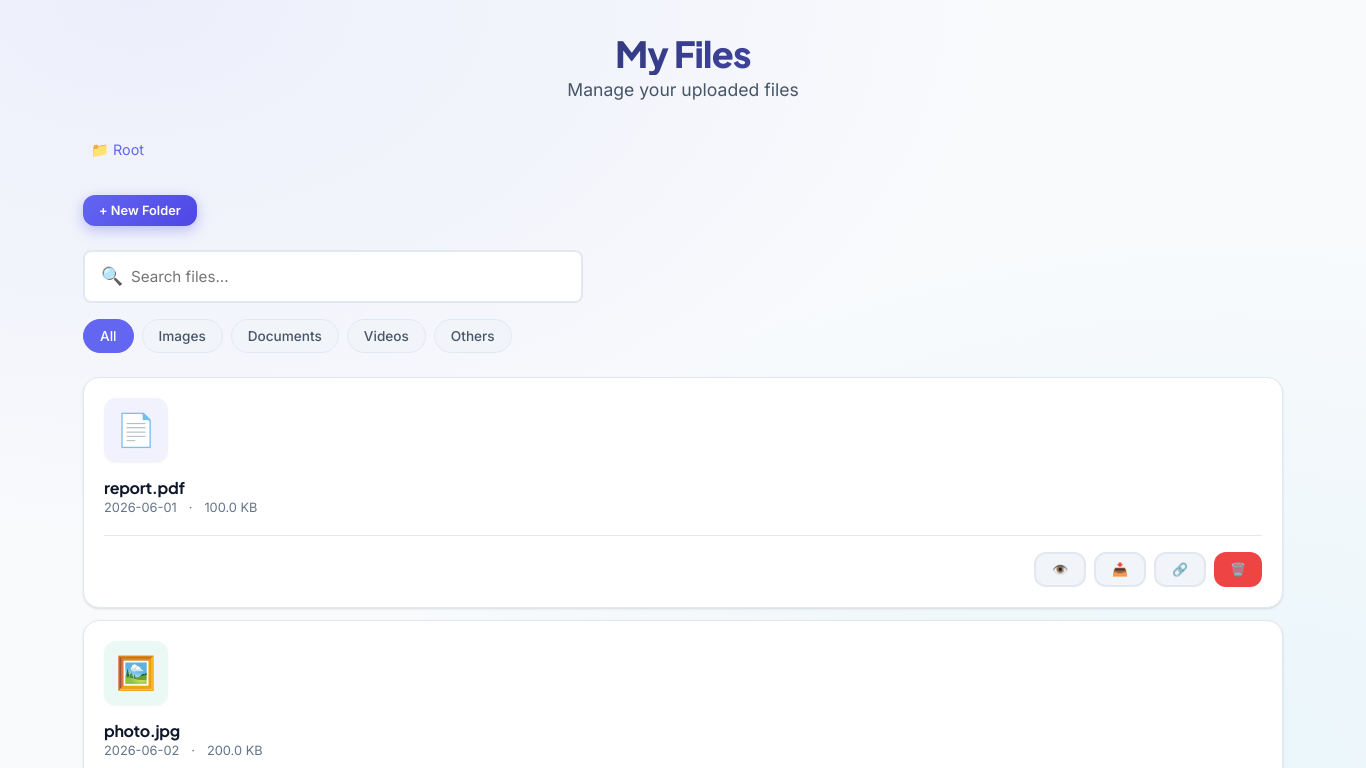
it: MyFiles Component › filters files by search query
expect the heading "report.pdf" is shown: met, box [104,477,185,498]
Type "photo" into the field with placeholder "Search files...".
click(348, 276); type("photo")  # box [131,267,565,286]
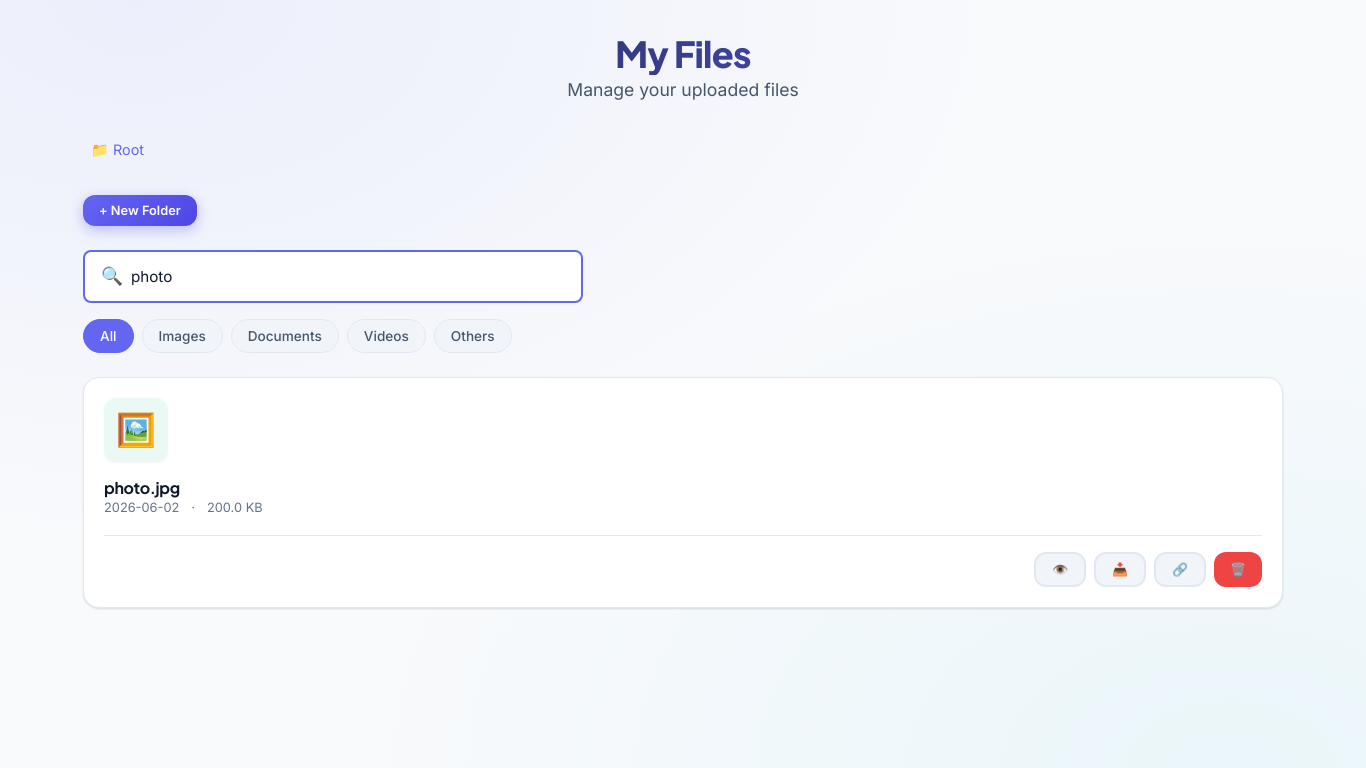
expect the heading "photo.jpg" is shown: met, box [104,477,180,498]
expect the heading "report.pdf" is gone: met
